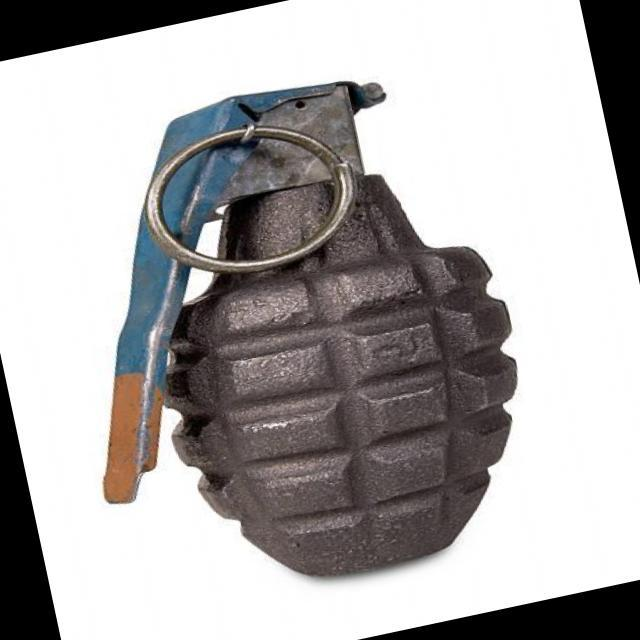grenade: (14, 42, 572, 628)
